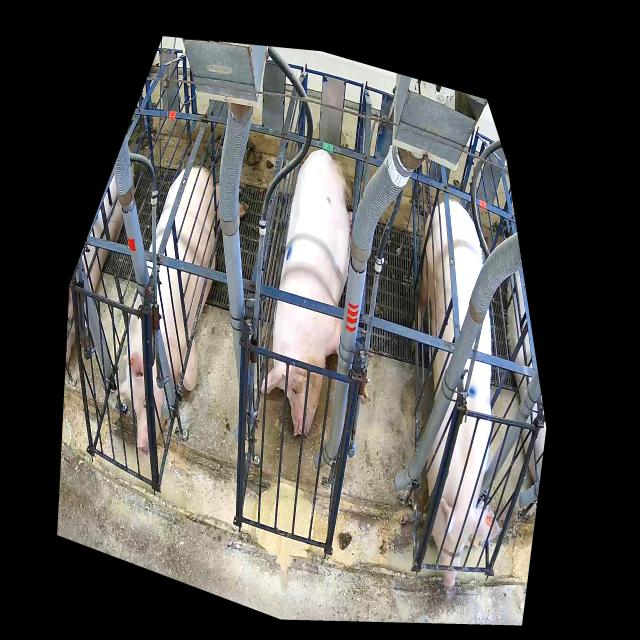pig: (114, 165, 248, 455), (411, 198, 502, 587), (261, 148, 367, 437)
